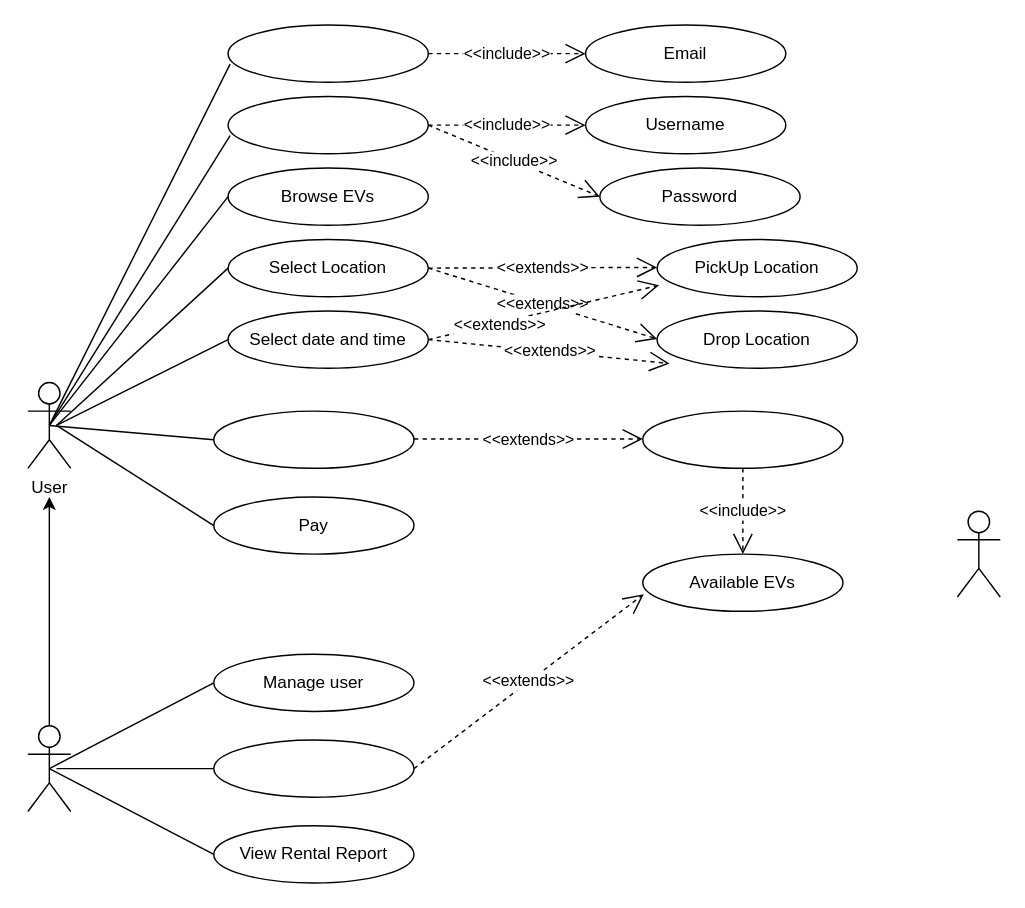
Image size: 1025x908. Some labels were removed from this diagram. Each missing label, with the centre of its shape:
Admin: point (48, 768)
Login: point (327, 124)
Register: point (327, 53)
Reservation: point (313, 439)
Select EV: point (742, 439)
Staff: point (978, 553)
Update Vehicle Info: point (313, 768)
